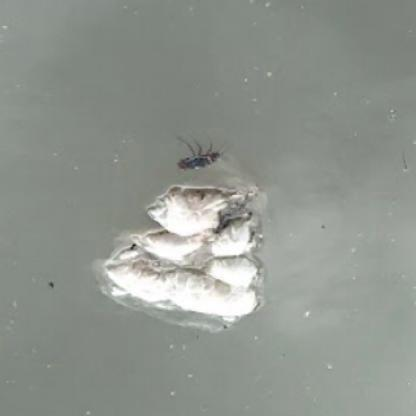Trash: (92, 179, 270, 342)
